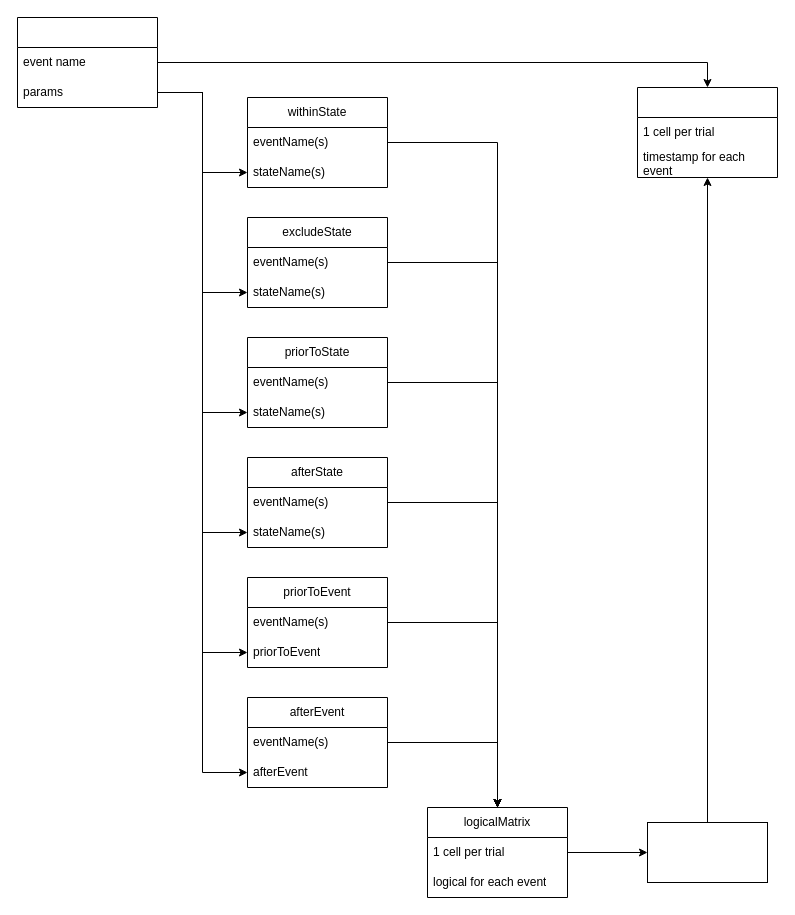
Image size: 795x915. Some labels were removed from this diagram. Here are the shapes that lost their labels. From the top down, the box of each, then its label:
(16, 16, 158, 108): function_call
(636, 86, 778, 178): event_times
(646, 822, 768, 882): Intersect with
